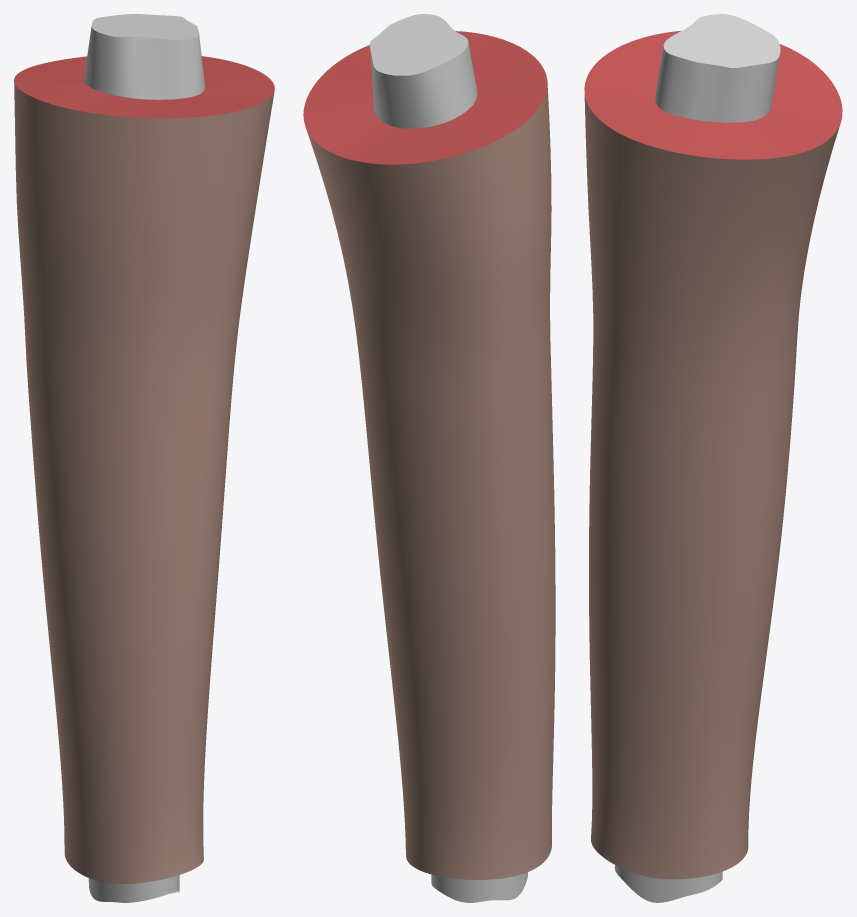
3 renders of one model, left to right at view 1: azimuth 30°, elevation 25°; view 2: azimuth 150°, elevation 25°; view 3: azimuth 270°, elevation 25°, orthographic. The views are drawn at different scales.
Parts seen in each view (by area): view 1: polySurface39; view 2: polySurface39; view 3: polySurface39.
Boxes of the visible parts, bbox=[...] form: polySurface39: bbox=[14, 14, 274, 902]; polySurface39: bbox=[303, 14, 555, 902]; polySurface39: bbox=[584, 14, 842, 902].
Size of the model in its own units: 2.49 by 9.26 by 2.5.
